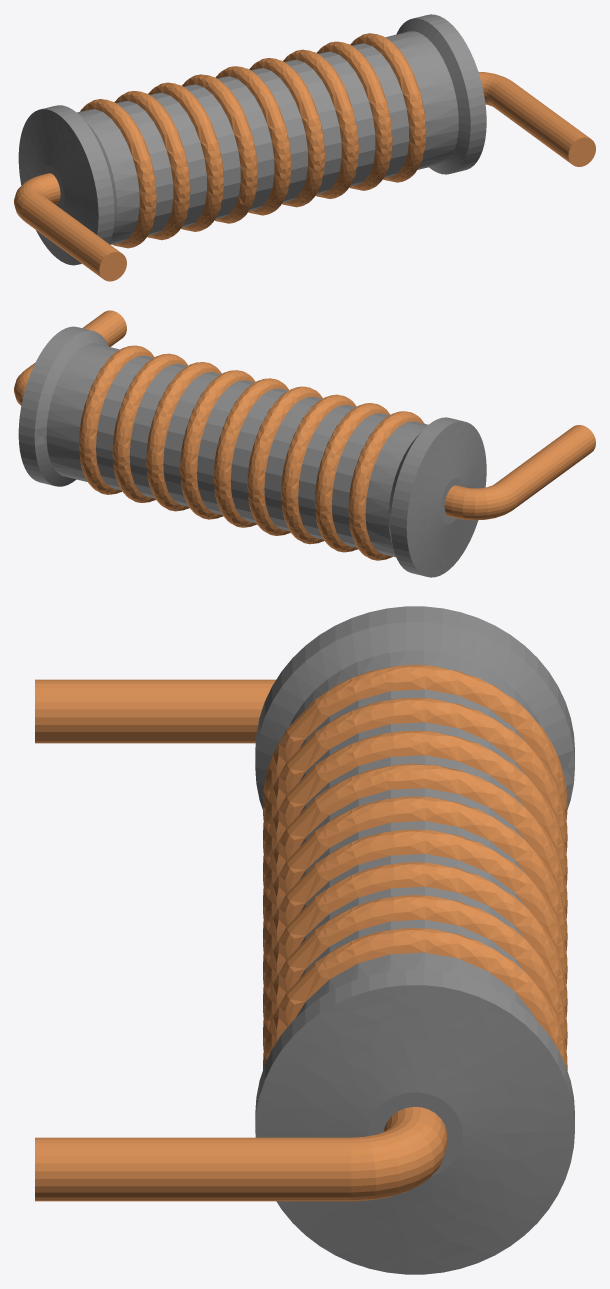
Rendered from L_Axial_L13.0mm_D4.5mm_P15.24mm_Horizontal_Fastron_HCCC.glb.
The picture shows the model from 3 angles, top to bottom: view 1: azimuth 30°, elevation 25°; view 2: azimuth 150°, elevation 25°; view 3: azimuth 270°, elevation 25°; orthographic projection. The views are drawn at different scales.
Parts seen in each view (by area): view 1: Shape_IndexedFaceSet.029, Shape_IndexedFaceSet.005, Shape_IndexedFaceSet.026, Shape_IndexedFaceSet.008, Shape_IndexedFaceSet.033, Shape_IndexedFaceSet.025, Shape_IndexedFaceSet.019, Shape_IndexedFaceSet.011, Shape_IndexedFaceSet.017, Shape_IndexedFaceSet.023, Shape_IndexedFaceSet.013, Shape_IndexedFaceSet.015 (+17 smaller); view 2: Shape_IndexedFaceSet.029, Shape_IndexedFaceSet.005, Shape_IndexedFaceSet.026, Shape_IndexedFaceSet.033, Shape_IndexedFaceSet.019, Shape_IndexedFaceSet.025, Shape_IndexedFaceSet.017, Shape_IndexedFaceSet.021, Shape_IndexedFaceSet.013, Shape_IndexedFaceSet.011, Shape_IndexedFaceSet.015, Shape_IndexedFaceSet.023 (+15 smaller); view 3: Shape_IndexedFaceSet, Shape_IndexedFaceSet.008, Shape_IndexedFaceSet.033, Shape_IndexedFaceSet.027, Shape_IndexedFaceSet.013, Shape_IndexedFaceSet.015, Shape_IndexedFaceSet.017, Shape_IndexedFaceSet.019, Shape_IndexedFaceSet.011, Shape_IndexedFaceSet.023, Shape_IndexedFaceSet.025, Shape_IndexedFaceSet.021 (+15 smaller).
Boxes of the visible parts, box(x1,y1,x2,y2) form: Shape_IndexedFaceSet.029: box(18, 109, 98, 265); Shape_IndexedFaceSet.005: box(386, 31, 458, 169); Shape_IndexedFaceSet.026: box(77, 109, 139, 244); Shape_IndexedFaceSet.008: box(489, 79, 590, 163); Shape_IndexedFaceSet.033: box(20, 194, 120, 278); Shape_IndexedFaceSet.025: box(80, 99, 156, 248); Shape_IndexedFaceSet.019: box(182, 74, 257, 223); Shape_IndexedFaceSet.011: box(317, 41, 392, 190); Shape_IndexedFaceSet.017: box(215, 66, 291, 215); Shape_IndexedFaceSet.023: box(114, 91, 190, 240); Shape_IndexedFaceSet.013: box(283, 49, 358, 198); Shape_IndexedFaceSet.015: box(249, 58, 325, 207); Shape_IndexedFaceSet.029: box(406, 421, 486, 577); Shape_IndexedFaceSet.005: box(46, 343, 119, 481); Shape_IndexedFaceSet.026: box(365, 421, 427, 557); Shape_IndexedFaceSet.033: box(495, 425, 595, 509); Shape_IndexedFaceSet.019: box(247, 386, 322, 535); Shape_IndexedFaceSet.025: box(348, 411, 424, 560); Shape_IndexedFaceSet.017: box(213, 378, 289, 527); Shape_IndexedFaceSet.021: box(281, 394, 356, 544); Shape_IndexedFaceSet.013: box(146, 362, 221, 511); Shape_IndexedFaceSet.011: box(112, 353, 187, 502); Shape_IndexedFaceSet.015: box(180, 370, 255, 519); Shape_IndexedFaceSet.023: box(314, 403, 390, 552); Shape_IndexedFaceSet: box(255, 985, 574, 1274); Shape_IndexedFaceSet.008: box(35, 1137, 351, 1201); Shape_IndexedFaceSet.033: box(35, 679, 275, 743); Shape_IndexedFaceSet.027: box(255, 622, 574, 809); Shape_IndexedFaceSet.013: box(263, 862, 567, 1017); Shape_IndexedFaceSet.015: box(263, 829, 567, 984); Shape_IndexedFaceSet.017: box(263, 796, 567, 951); Shape_IndexedFaceSet.019: box(263, 763, 567, 918); Shape_IndexedFaceSet.011: box(263, 895, 567, 1050); Shape_IndexedFaceSet.023: box(263, 698, 567, 852); Shape_IndexedFaceSet.025: box(263, 665, 567, 820); Shape_IndexedFaceSet.021: box(263, 731, 567, 885).
Size of the model in its own units: 6.35 by 1.77 by 2.99.
